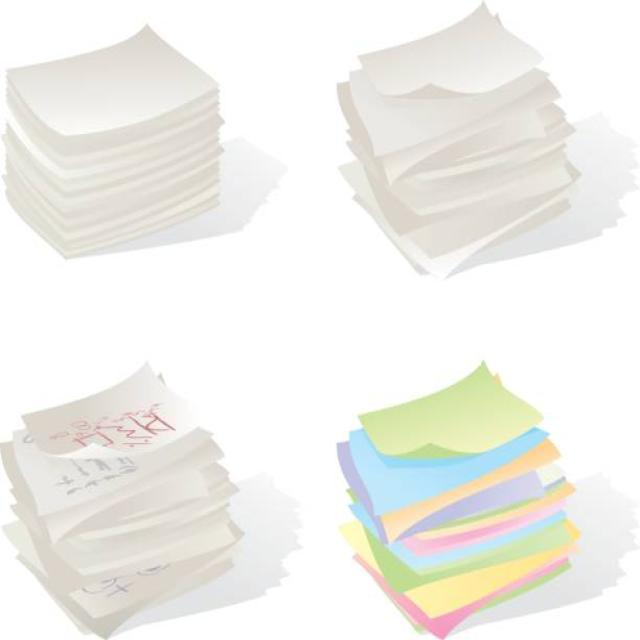electronic: (334, 358, 582, 639), (334, 0, 582, 278), (0, 359, 246, 639), (1, 22, 225, 259)
